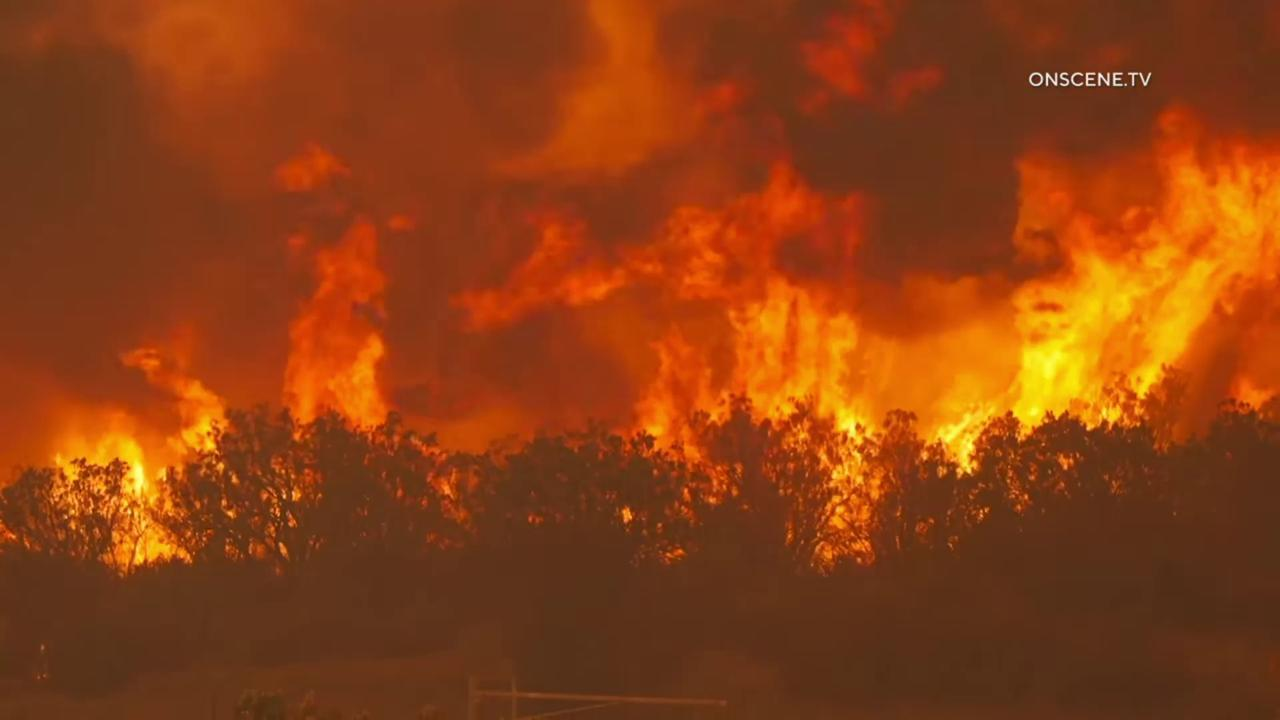fire: (447, 141, 892, 576), (0, 137, 394, 582), (917, 97, 1280, 479), (401, 431, 481, 538)
smoke: (0, 0, 1280, 720)
